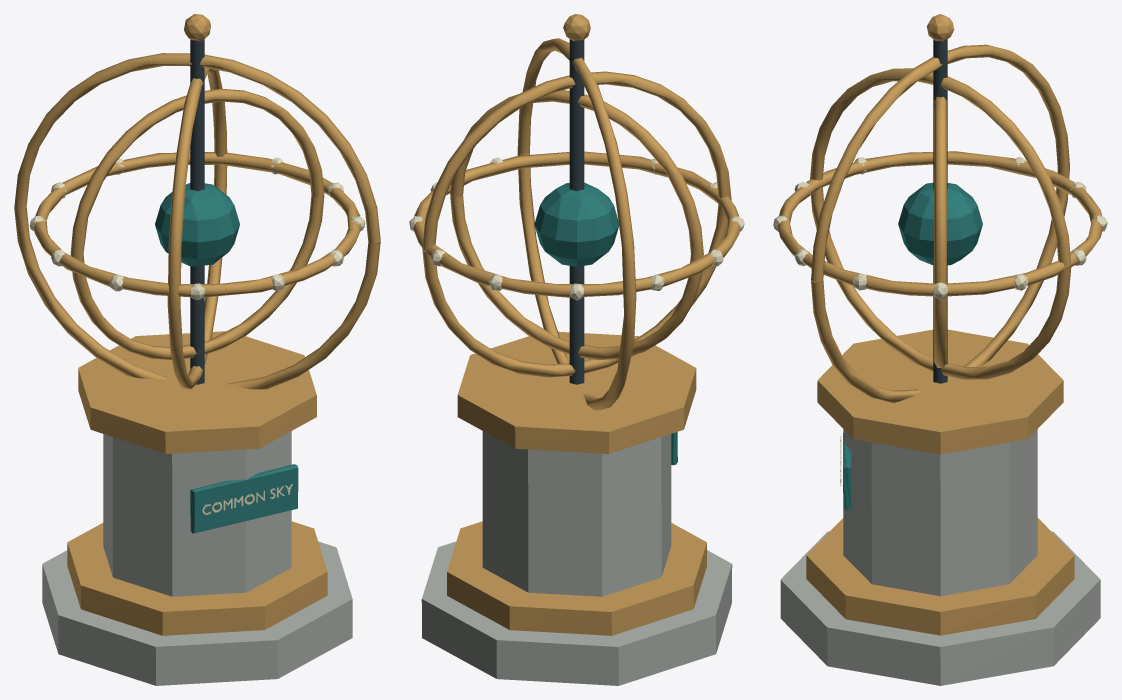
Rendered from prop_aegis_civic_orrery_lod1.glb.
3 views of the same model, side by side, from view 1: azimuth 30°, elevation 25°; view 2: azimuth 150°, elevation 25°; view 3: azimuth 270°, elevation 25° (orthographic).
Visible parts, largest first — view 1: aegis_civic_orrery.001; view 2: aegis_civic_orrery.001; view 3: aegis_civic_orrery.001.
Boxes of the visible parts, bbox=[...] form: aegis_civic_orrery.001: bbox=[14, 14, 380, 685]; aegis_civic_orrery.001: bbox=[409, 14, 744, 685]; aegis_civic_orrery.001: bbox=[773, 14, 1107, 685].
Bounding box in the file's own units: 1.81 × 3.6 × 1.81.
